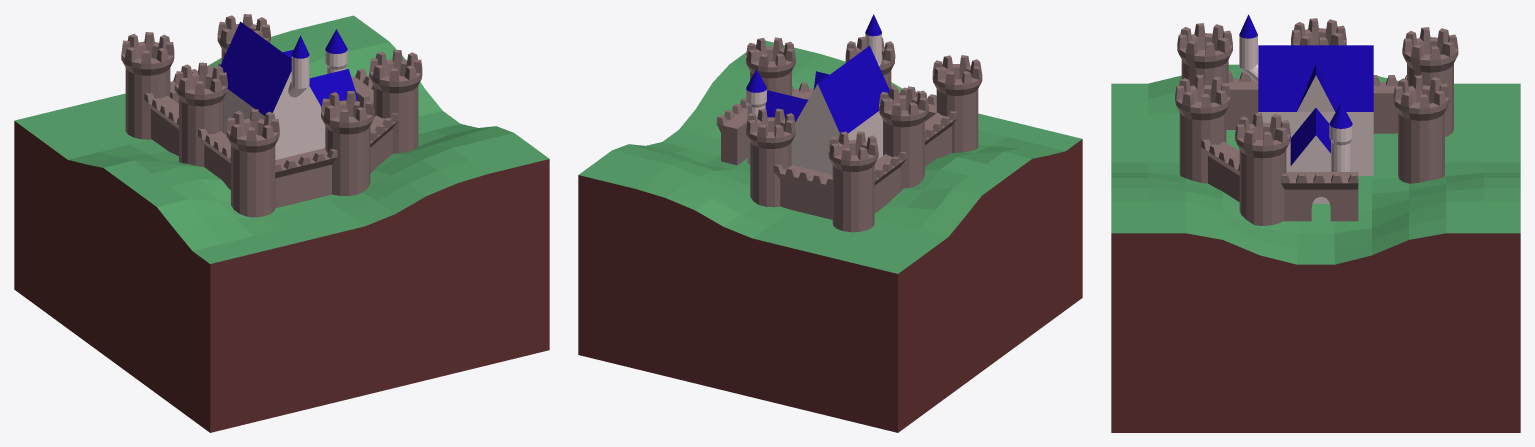
Rendered from Castle.glb.
3 renders of one model, left to right at view 1: azimuth 30°, elevation 25°; view 2: azimuth 150°, elevation 25°; view 3: azimuth 270°, elevation 25°, orthographic. The views are drawn at different scales.
Visible parts, largest first — view 1: Plane, Cube.007, Cylinder, Cylinder.001, Cylinder.004, Cylinder.003, Cylinder.002, Cube, Cube.004, Cube.002, Cube.006, Cube.001 (+3 smaller); view 2: Plane, Cube.007, Cylinder.004, Cylinder.005, Cylinder.002, Cylinder, Cube.005, Cylinder.003, Cube.003, Cube.004, Cube.002, Cube.006 (+3 smaller); view 3: Plane, Cube.007, Cylinder.003, Cylinder.005, Cylinder.001, Cube.003, Cylinder.004, Cylinder, Cube.006, Cube.001, Cube.002, Cube.004 (+3 smaller).
Boxes of the visible parts, bbox=[...] form: Plane: bbox=[14, 15, 549, 432]; Cube.007: bbox=[220, 21, 321, 159]; Cylinder: bbox=[226, 109, 279, 217]; Cylinder.001: bbox=[321, 91, 374, 195]; Cylinder.004: bbox=[121, 32, 174, 139]; Cylinder.003: bbox=[369, 49, 422, 153]; Cylinder.002: bbox=[174, 62, 227, 166]; Cube: bbox=[275, 148, 337, 208]; Cube.004: bbox=[144, 93, 178, 156]; Cube.002: bbox=[198, 128, 230, 189]; Cube.006: bbox=[309, 69, 358, 148]; Cube.001: bbox=[370, 113, 398, 173]; Plane: bbox=[578, 40, 1082, 432]; Cube.007: bbox=[793, 45, 889, 174]; Cylinder.004: bbox=[828, 131, 878, 232]; Cylinder.005: bbox=[746, 108, 795, 207]; Cylinder.002: bbox=[879, 86, 928, 188]; Cylinder: bbox=[932, 55, 982, 152]; Cube.005: bbox=[773, 164, 832, 219]; Cylinder.003: bbox=[746, 37, 795, 95]; Cube.003: bbox=[716, 98, 747, 165]; Cube.004: bbox=[874, 151, 907, 213]; Cube.002: bbox=[925, 111, 957, 166]; Cube.006: bbox=[765, 90, 807, 164]; Plane: bbox=[1111, 64, 1520, 432]; Cube.007: bbox=[1258, 45, 1373, 175]; Cylinder.003: bbox=[1235, 112, 1290, 225]; Cylinder.005: bbox=[1393, 75, 1449, 183]; Cylinder.001: bbox=[1175, 74, 1230, 183]; Cube.003: bbox=[1281, 172, 1358, 221]; Cylinder.004: bbox=[1402, 27, 1458, 136]; Cylinder: bbox=[1177, 23, 1232, 85]; Cube.006: bbox=[1290, 108, 1330, 203]; Cube.001: bbox=[1201, 139, 1239, 201]; Cube.002: bbox=[1226, 71, 1258, 129]; Cube.004: bbox=[1373, 75, 1406, 133].
Bounding box in the file's own units: 23.67 × 20.75 × 23.67.
